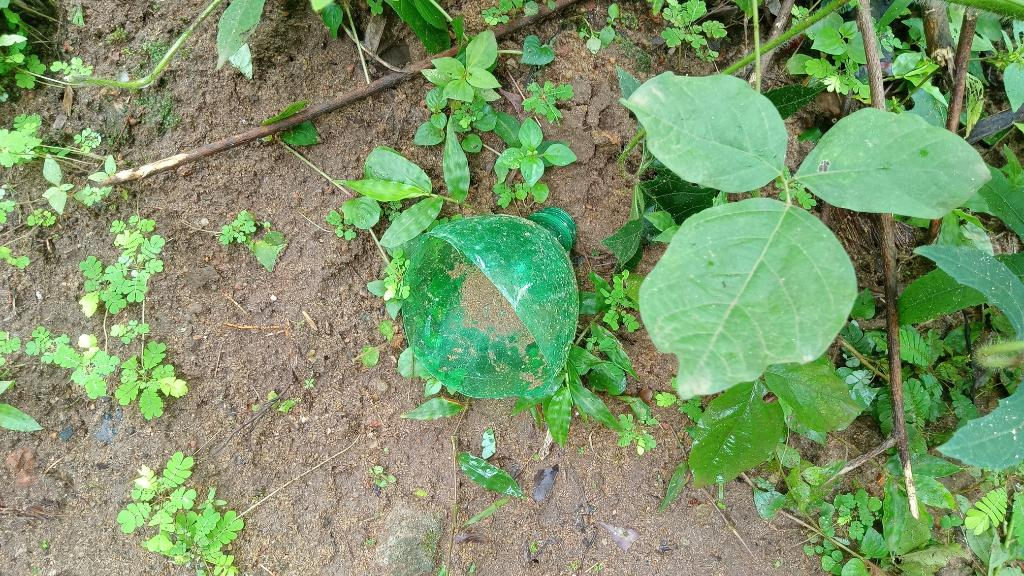garbage: (372, 178, 611, 421)
